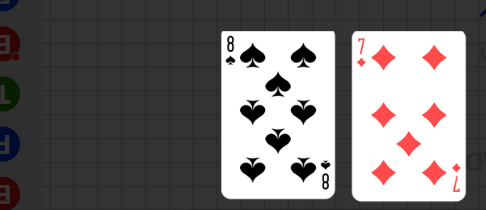10S: (225, 34, 238, 68)
7D: (355, 36, 368, 68)
